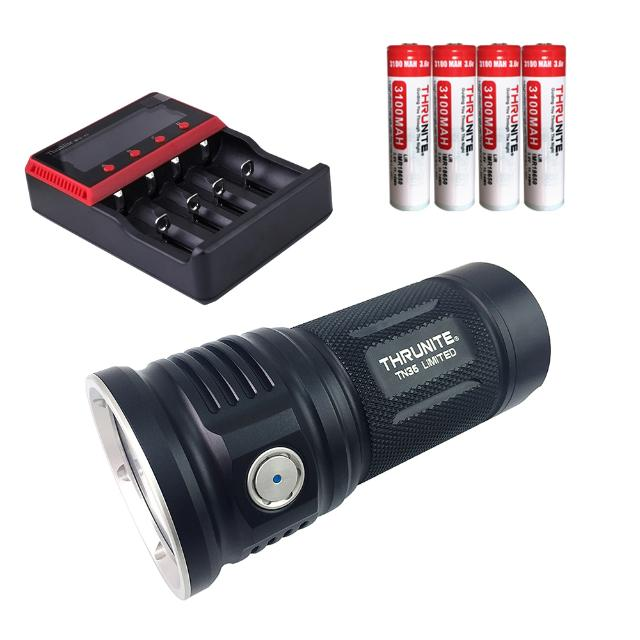Flashlight: (74, 252, 560, 606)
